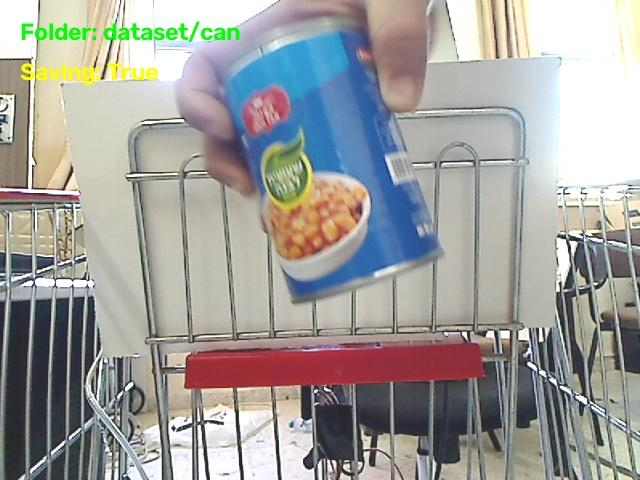can: (224, 18, 441, 302)
